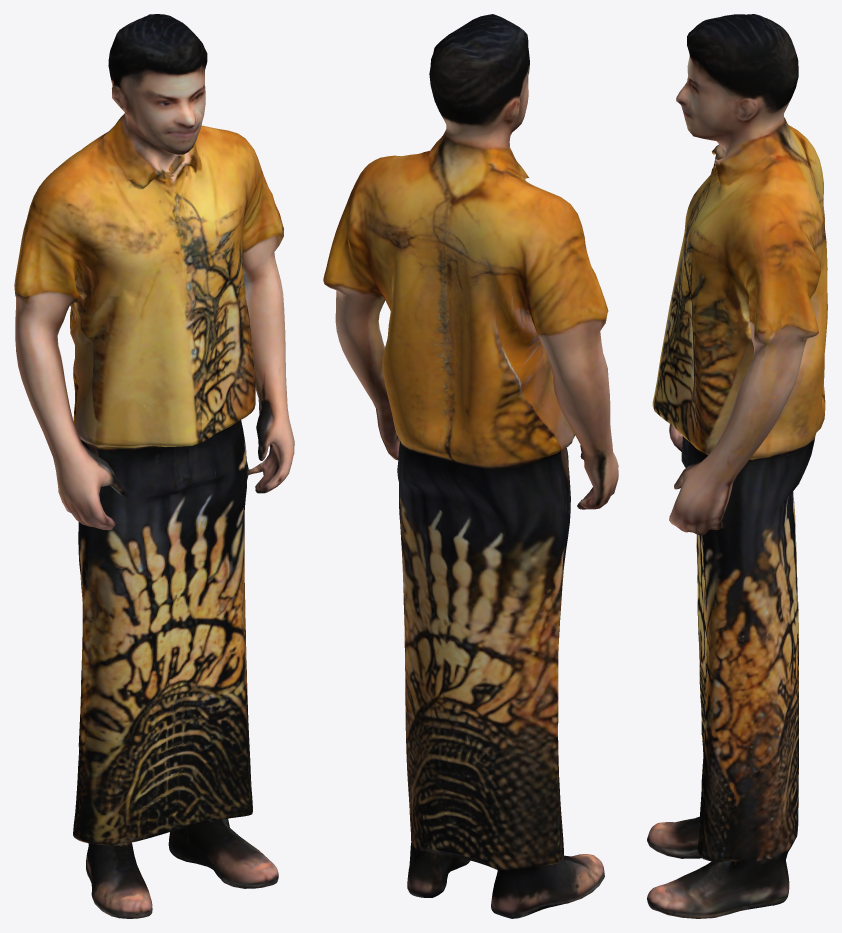
File: bathik_shirt_and_sarong1.glb
3 views of the same model, side by side, from view 1: azimuth 30°, elevation 25°; view 2: azimuth 150°, elevation 25°; view 3: azimuth 270°, elevation 25° (orthographic).
Size of the model in its own units: 0.655 by 2 by 0.3801.
Materials: 1 (1 with a texture image).
